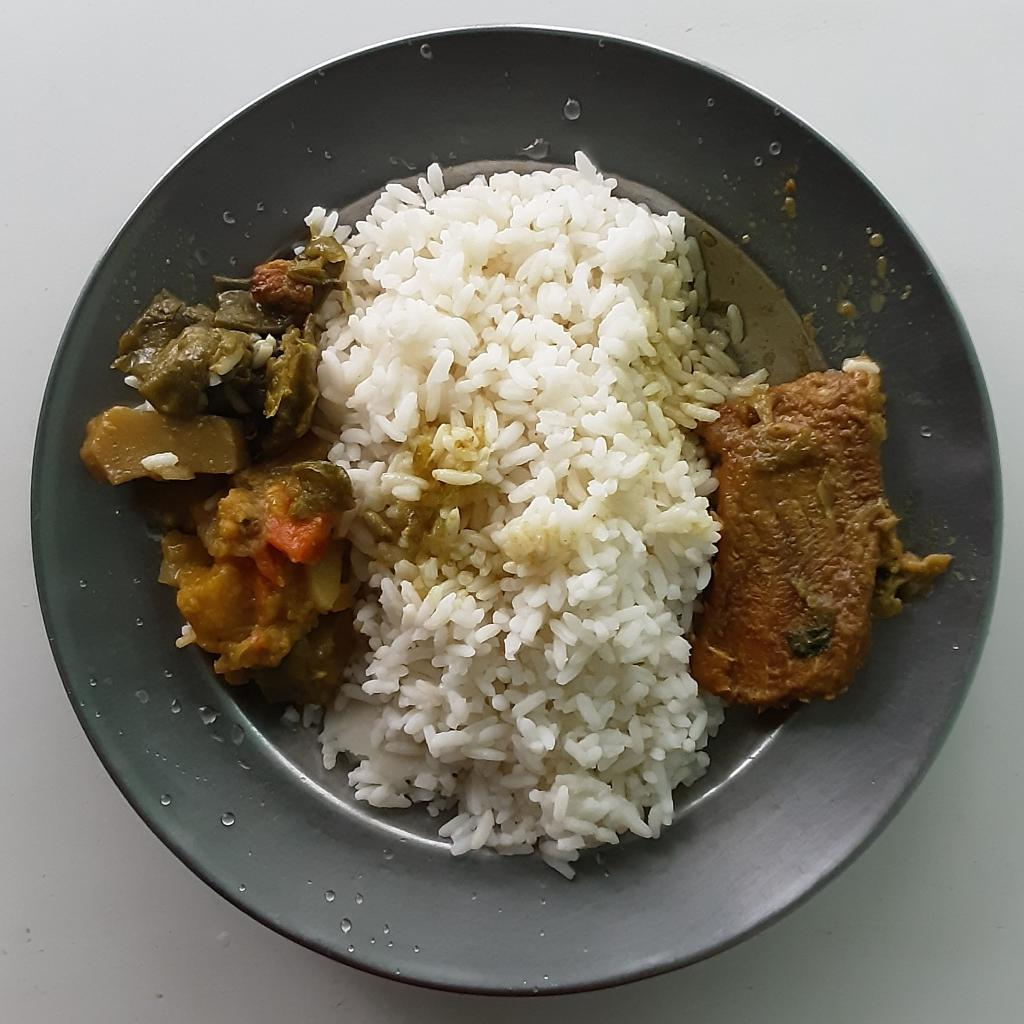fish: (690, 367, 949, 702)
potato: (84, 407, 362, 715)
rice: (283, 156, 772, 874)
shim: (119, 237, 344, 461)
